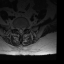CCS_normal: (19, 26, 22, 34)
LFS_normal: (24, 25, 25, 30)
LLS_normal: (22, 26, 24, 33)
RFS_normal: (16, 25, 18, 31)
RLS_normal: (18, 26, 20, 33)
